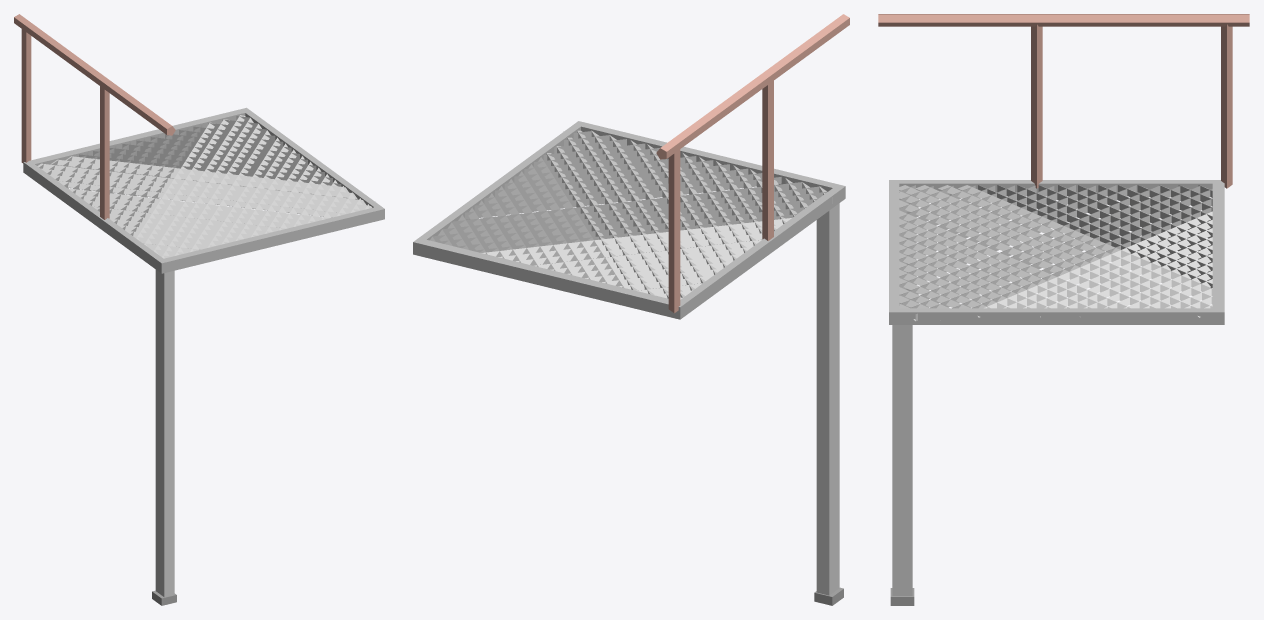
File: stairs1.fbx
3 renders of one model, left to right at view 1: azimuth 30°, elevation 25°; view 2: azimuth 150°, elevation 25°; view 3: azimuth 270°, elevation 25°, orthographic. The views are drawn at different scales.
Visible parts, largest first — view 1: Cylinder; view 2: Cylinder; view 3: Cylinder.
Part boxes in pixels (box(x1,y1,x2,y2)): Cylinder: box(14, 14, 384, 605); Cylinder: box(413, 14, 849, 605); Cylinder: box(878, 14, 1249, 605).
Bounding box in the file's own units: 196 × 401 × 231.
